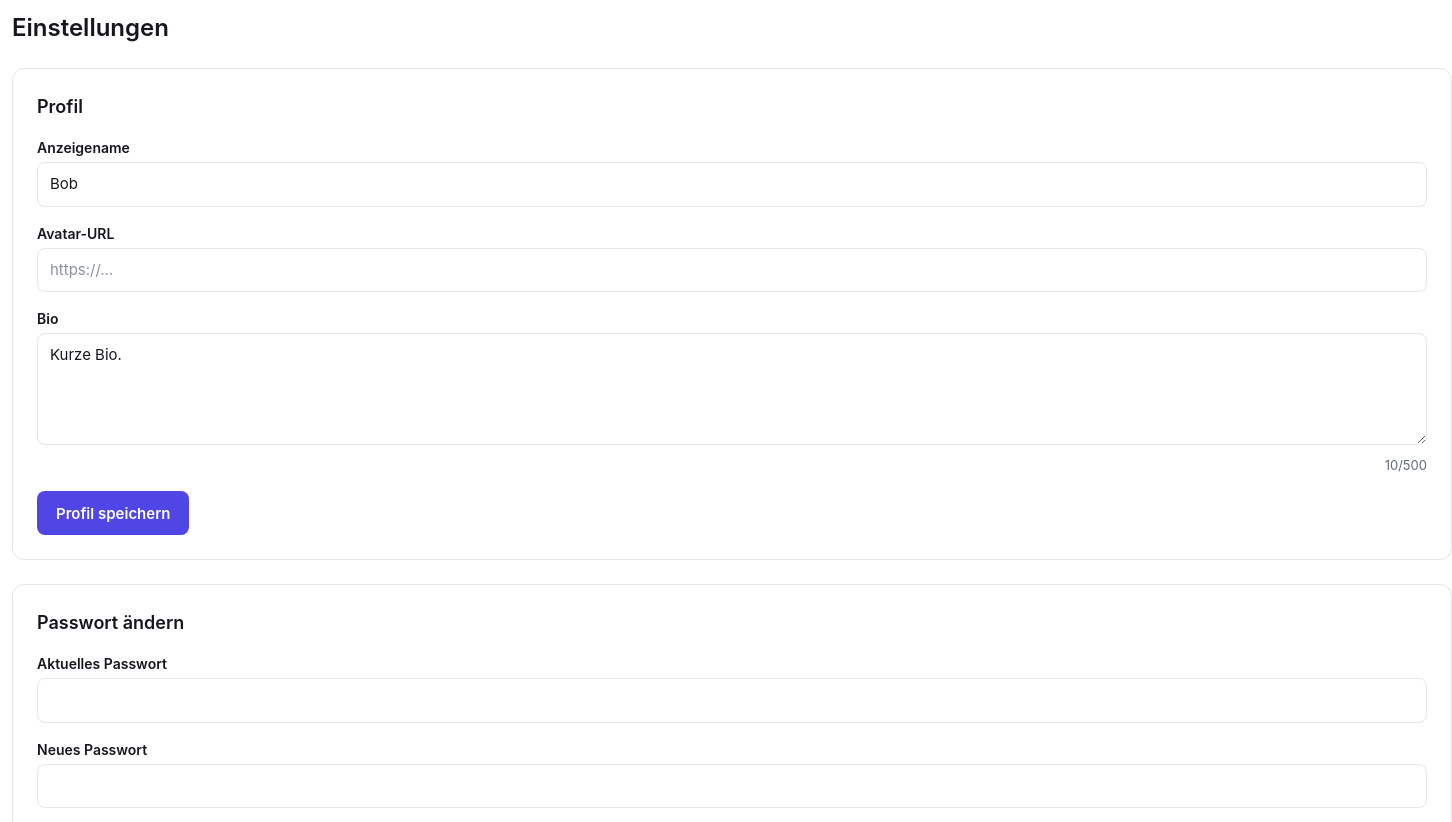
Test: SettingsPage › saves the profile through PATCH /users/me and updates the session user
This screenshot has width=1452, height=822.
Replace the text in the field labelled "Anzeigename" with "Bob Neu" at (732, 184), box [37, 162, 1427, 206]
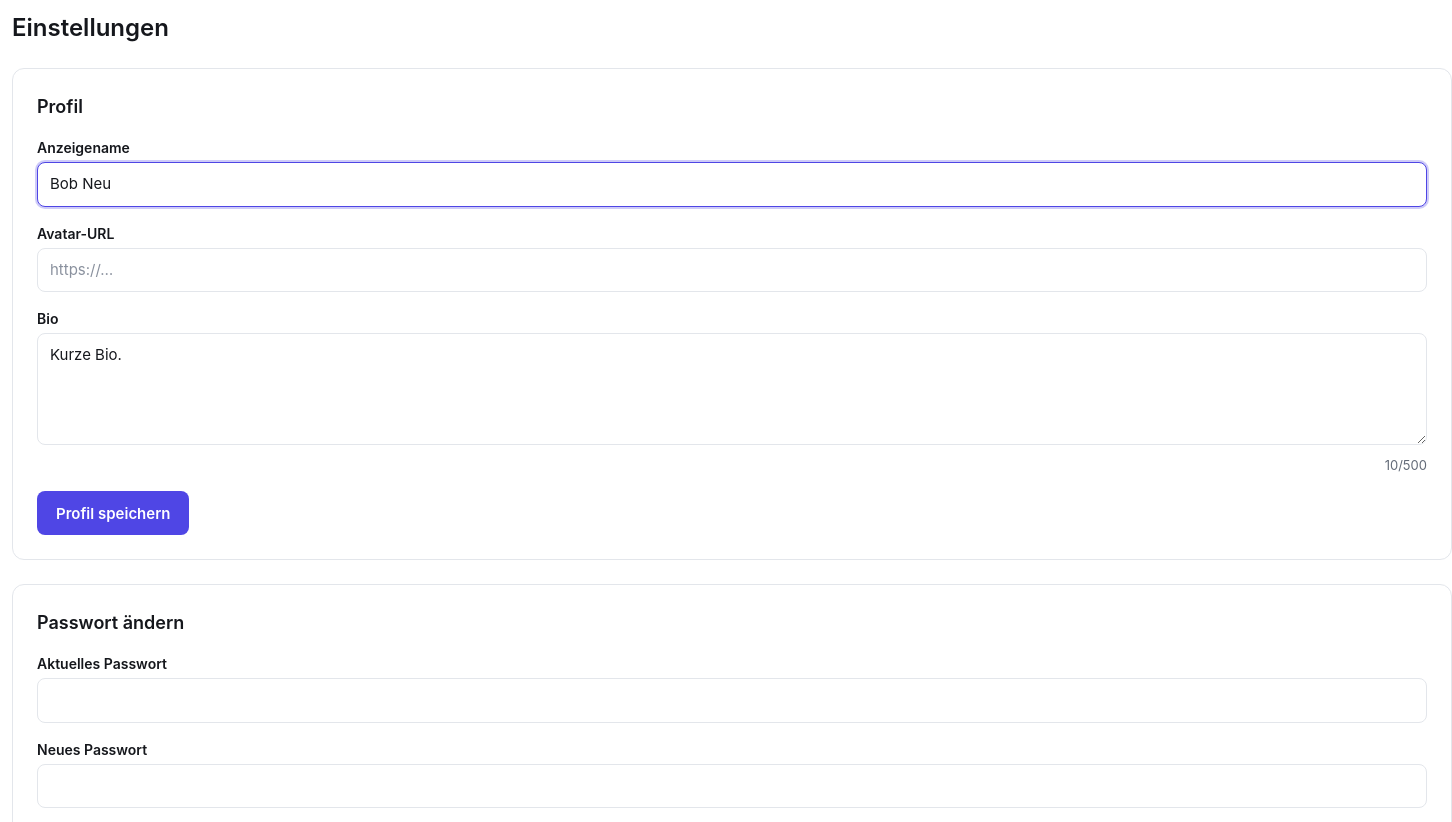
Click the button "Profil speichern" at (113, 513), box [37, 491, 190, 535]
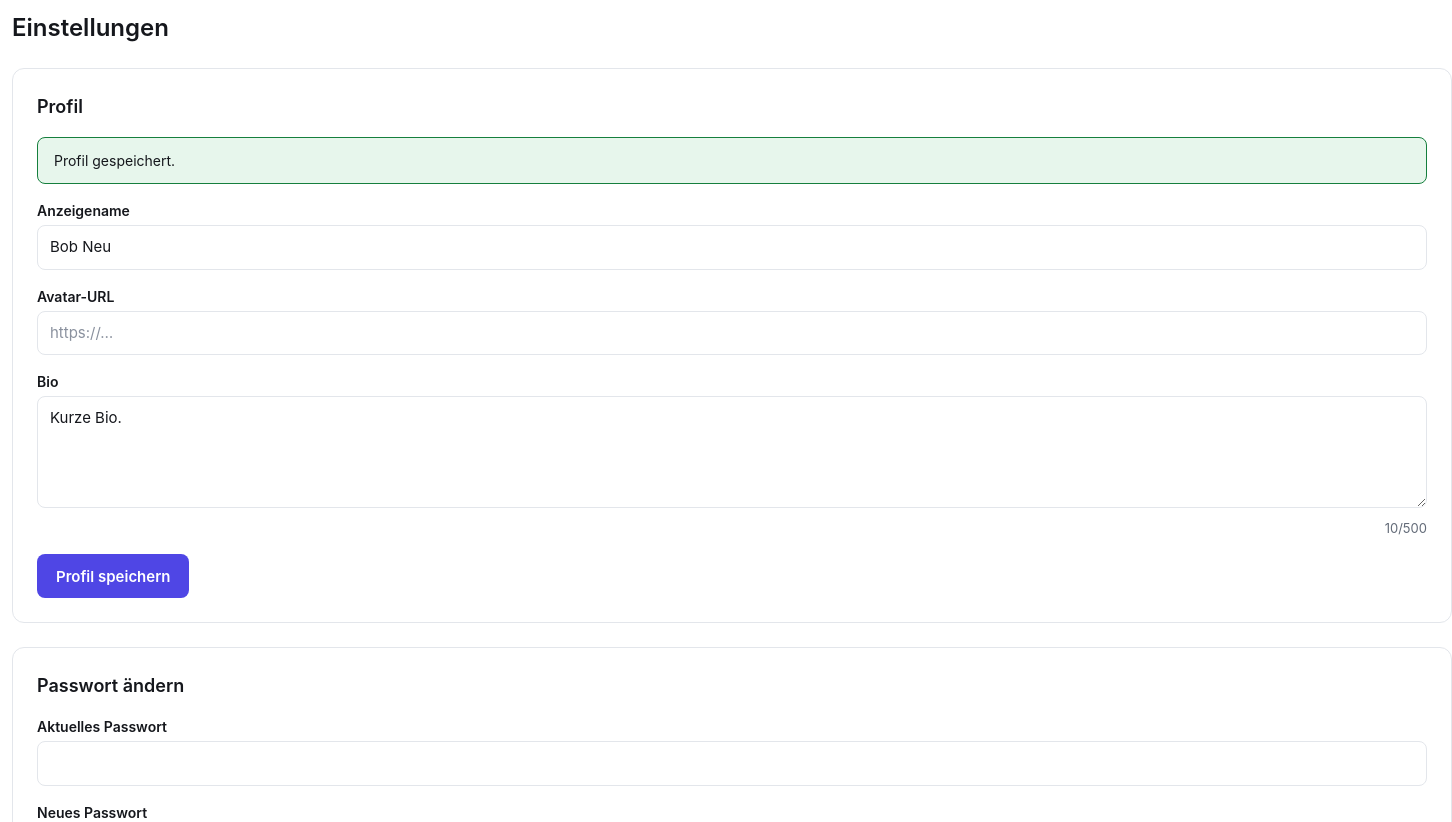
Expected: the text "Profil gespeichert." is shown, [37, 137, 1427, 184]
